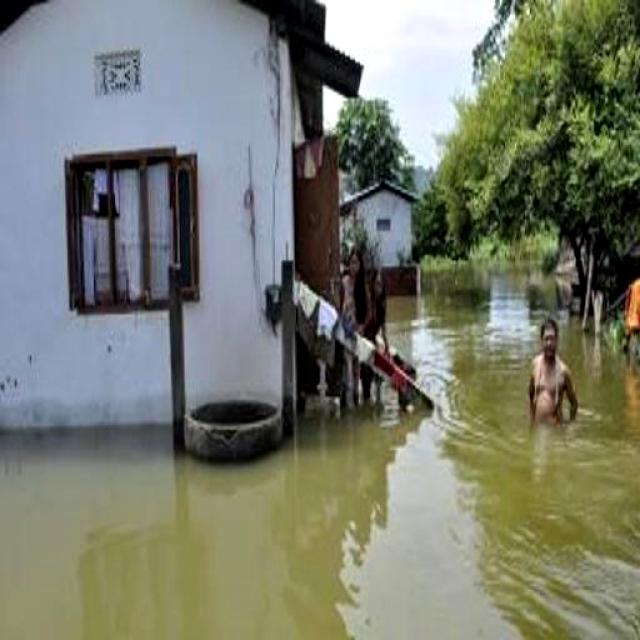civilian: (514, 305, 597, 453), (331, 236, 374, 417)
